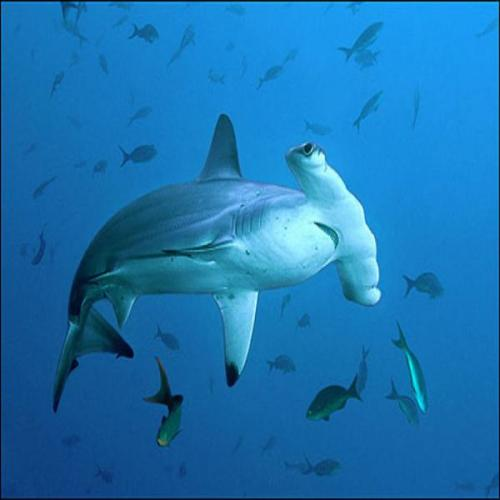shark-endangered: (50, 115, 382, 408)
